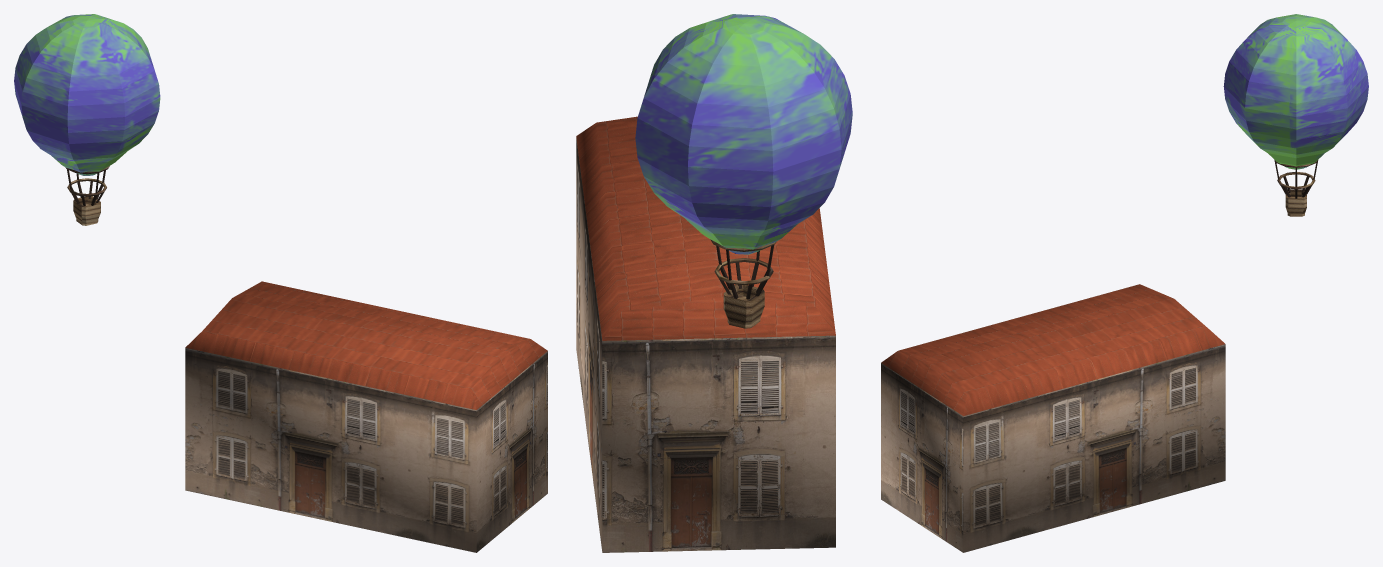
Rendered from scene_simple.fbx.
3 renders of one model, left to right at view 1: azimuth 30°, elevation 25°; view 2: azimuth 150°, elevation 25°; view 3: azimuth 270°, elevation 25°, orthographic. The views are drawn at different scales.
Parts seen in each view (by area): view 1: house, hotairbaloon; view 2: house, hotairbaloon; view 3: house, hotairbaloon.
Boxes of the visible parts, x1,y1,x2,y2 form: house: (185,281,547,552); hotairbaloon: (14,14,160,225); house: (576,116,835,552); hotairbaloon: (635,14,852,328); house: (881,284,1225,552); hotairbaloon: (1223,14,1368,216).
Bounding box in the file's own units: 16.05 × 20.09 × 18.09.
